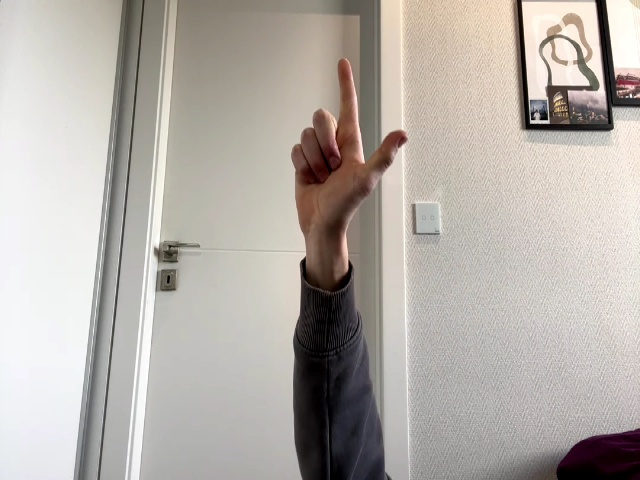L: (290, 58, 409, 246)
